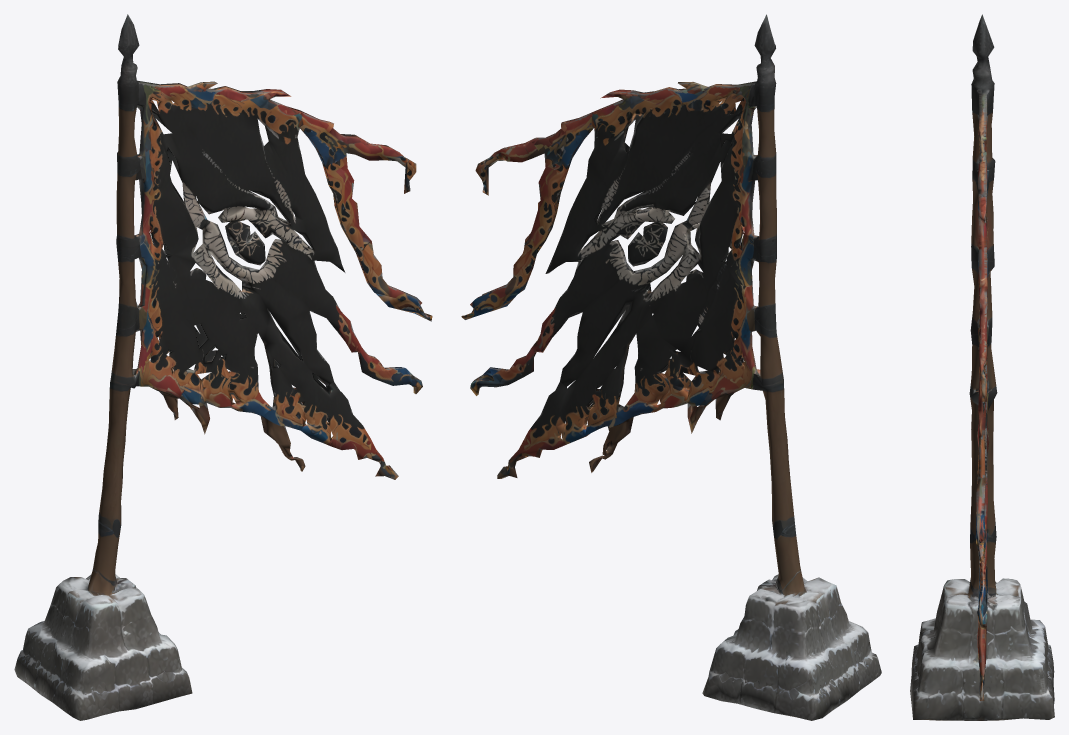
File: PR_ObangFlag_Black.fbx
3 views of the same model, side by side, from view 1: azimuth 30°, elevation 25°; view 2: azimuth 150°, elevation 25°; view 3: azimuth 270°, elevation 25° (orthographic). The views are drawn at different scales.
Visible parts, largest first — view 1: texture_mapping; view 2: texture_mapping; view 3: texture_mapping.
Part boxes in pixels (x1,y1,x2,y2): texture_mapping: (14,14,432,720); texture_mapping: (461,14,881,720); texture_mapping: (910,14,1054,720).
Bounding box in the file's own units: 0.6104 × 0.1892 × 0.997.
Materials: 1 (1 with a texture image).
